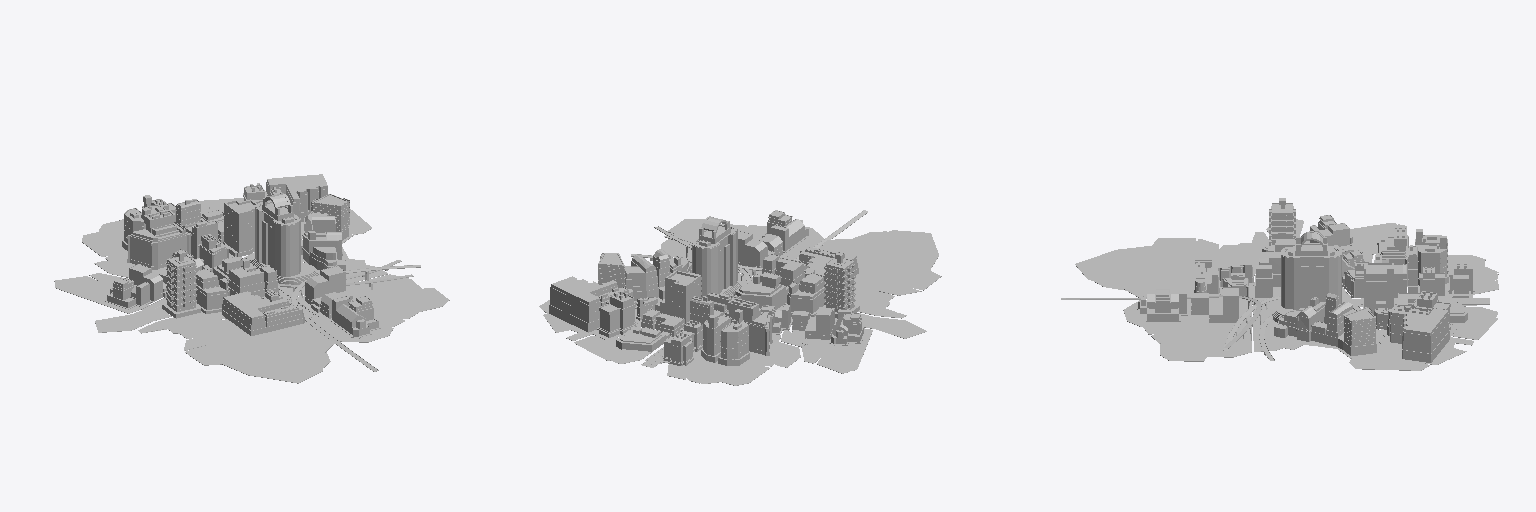
File: c4dcity.obj
3 renders of one model, left to right at view 1: azimuth 30°, elevation 25°; view 2: azimuth 150°, elevation 25°; view 3: azimuth 270°, elevation 25°, orthographic.
Visible parts, largest first — view 1: City_1; view 2: City_1; view 3: City_1.
Boxes of the visible parts, box(x1,y1,x2,y2) form: City_1: box(54, 174, 449, 383); City_1: box(539, 210, 941, 385); City_1: box(1061, 198, 1498, 370).
Bounding box in the file's own units: 7.83 × 1.87 × 9.37.